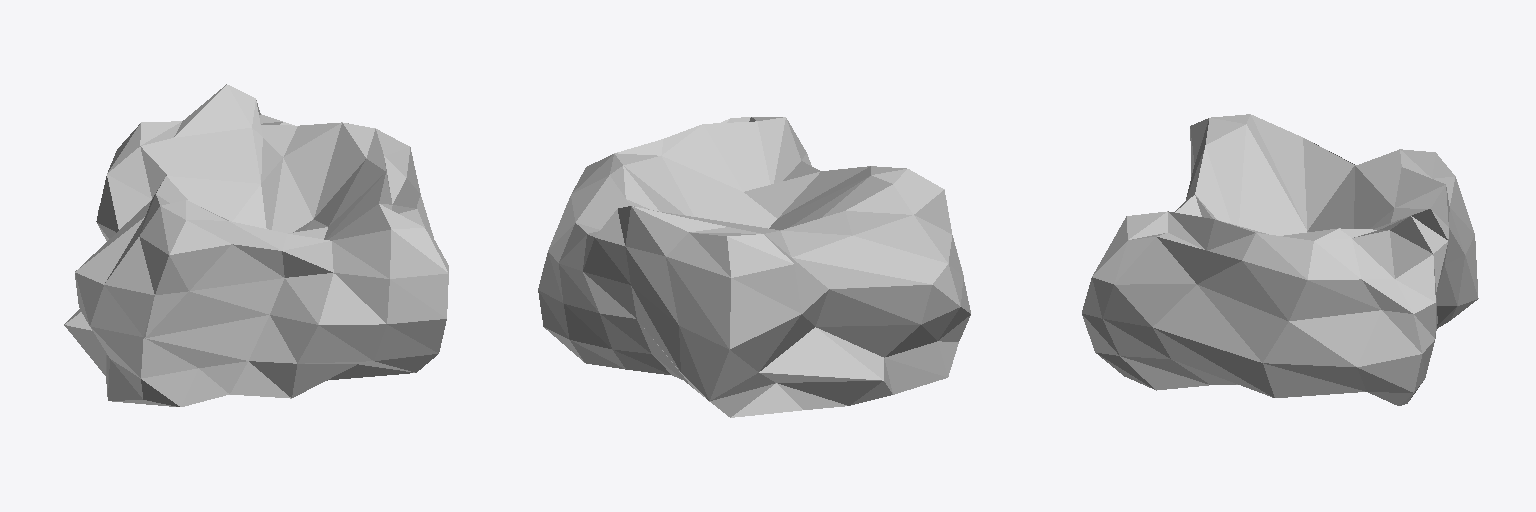
The model's file is cloud2.obj.
3 views of the same model, side by side, from view 1: azimuth 30°, elevation 25°; view 2: azimuth 150°, elevation 25°; view 3: azimuth 270°, elevation 25° (orthographic).
Parts seen in each view (by area): view 1: Cube.001_Cube; view 2: Cube.001_Cube; view 3: Cube.001_Cube.
Boxes of the visible parts, box(x1,y1,x2,y2) form: Cube.001_Cube: box(64, 84, 448, 406); Cube.001_Cube: box(538, 117, 970, 417); Cube.001_Cube: box(1082, 114, 1478, 405).
Bounding box in the file's own units: 3.75 × 1.96 × 3.59.